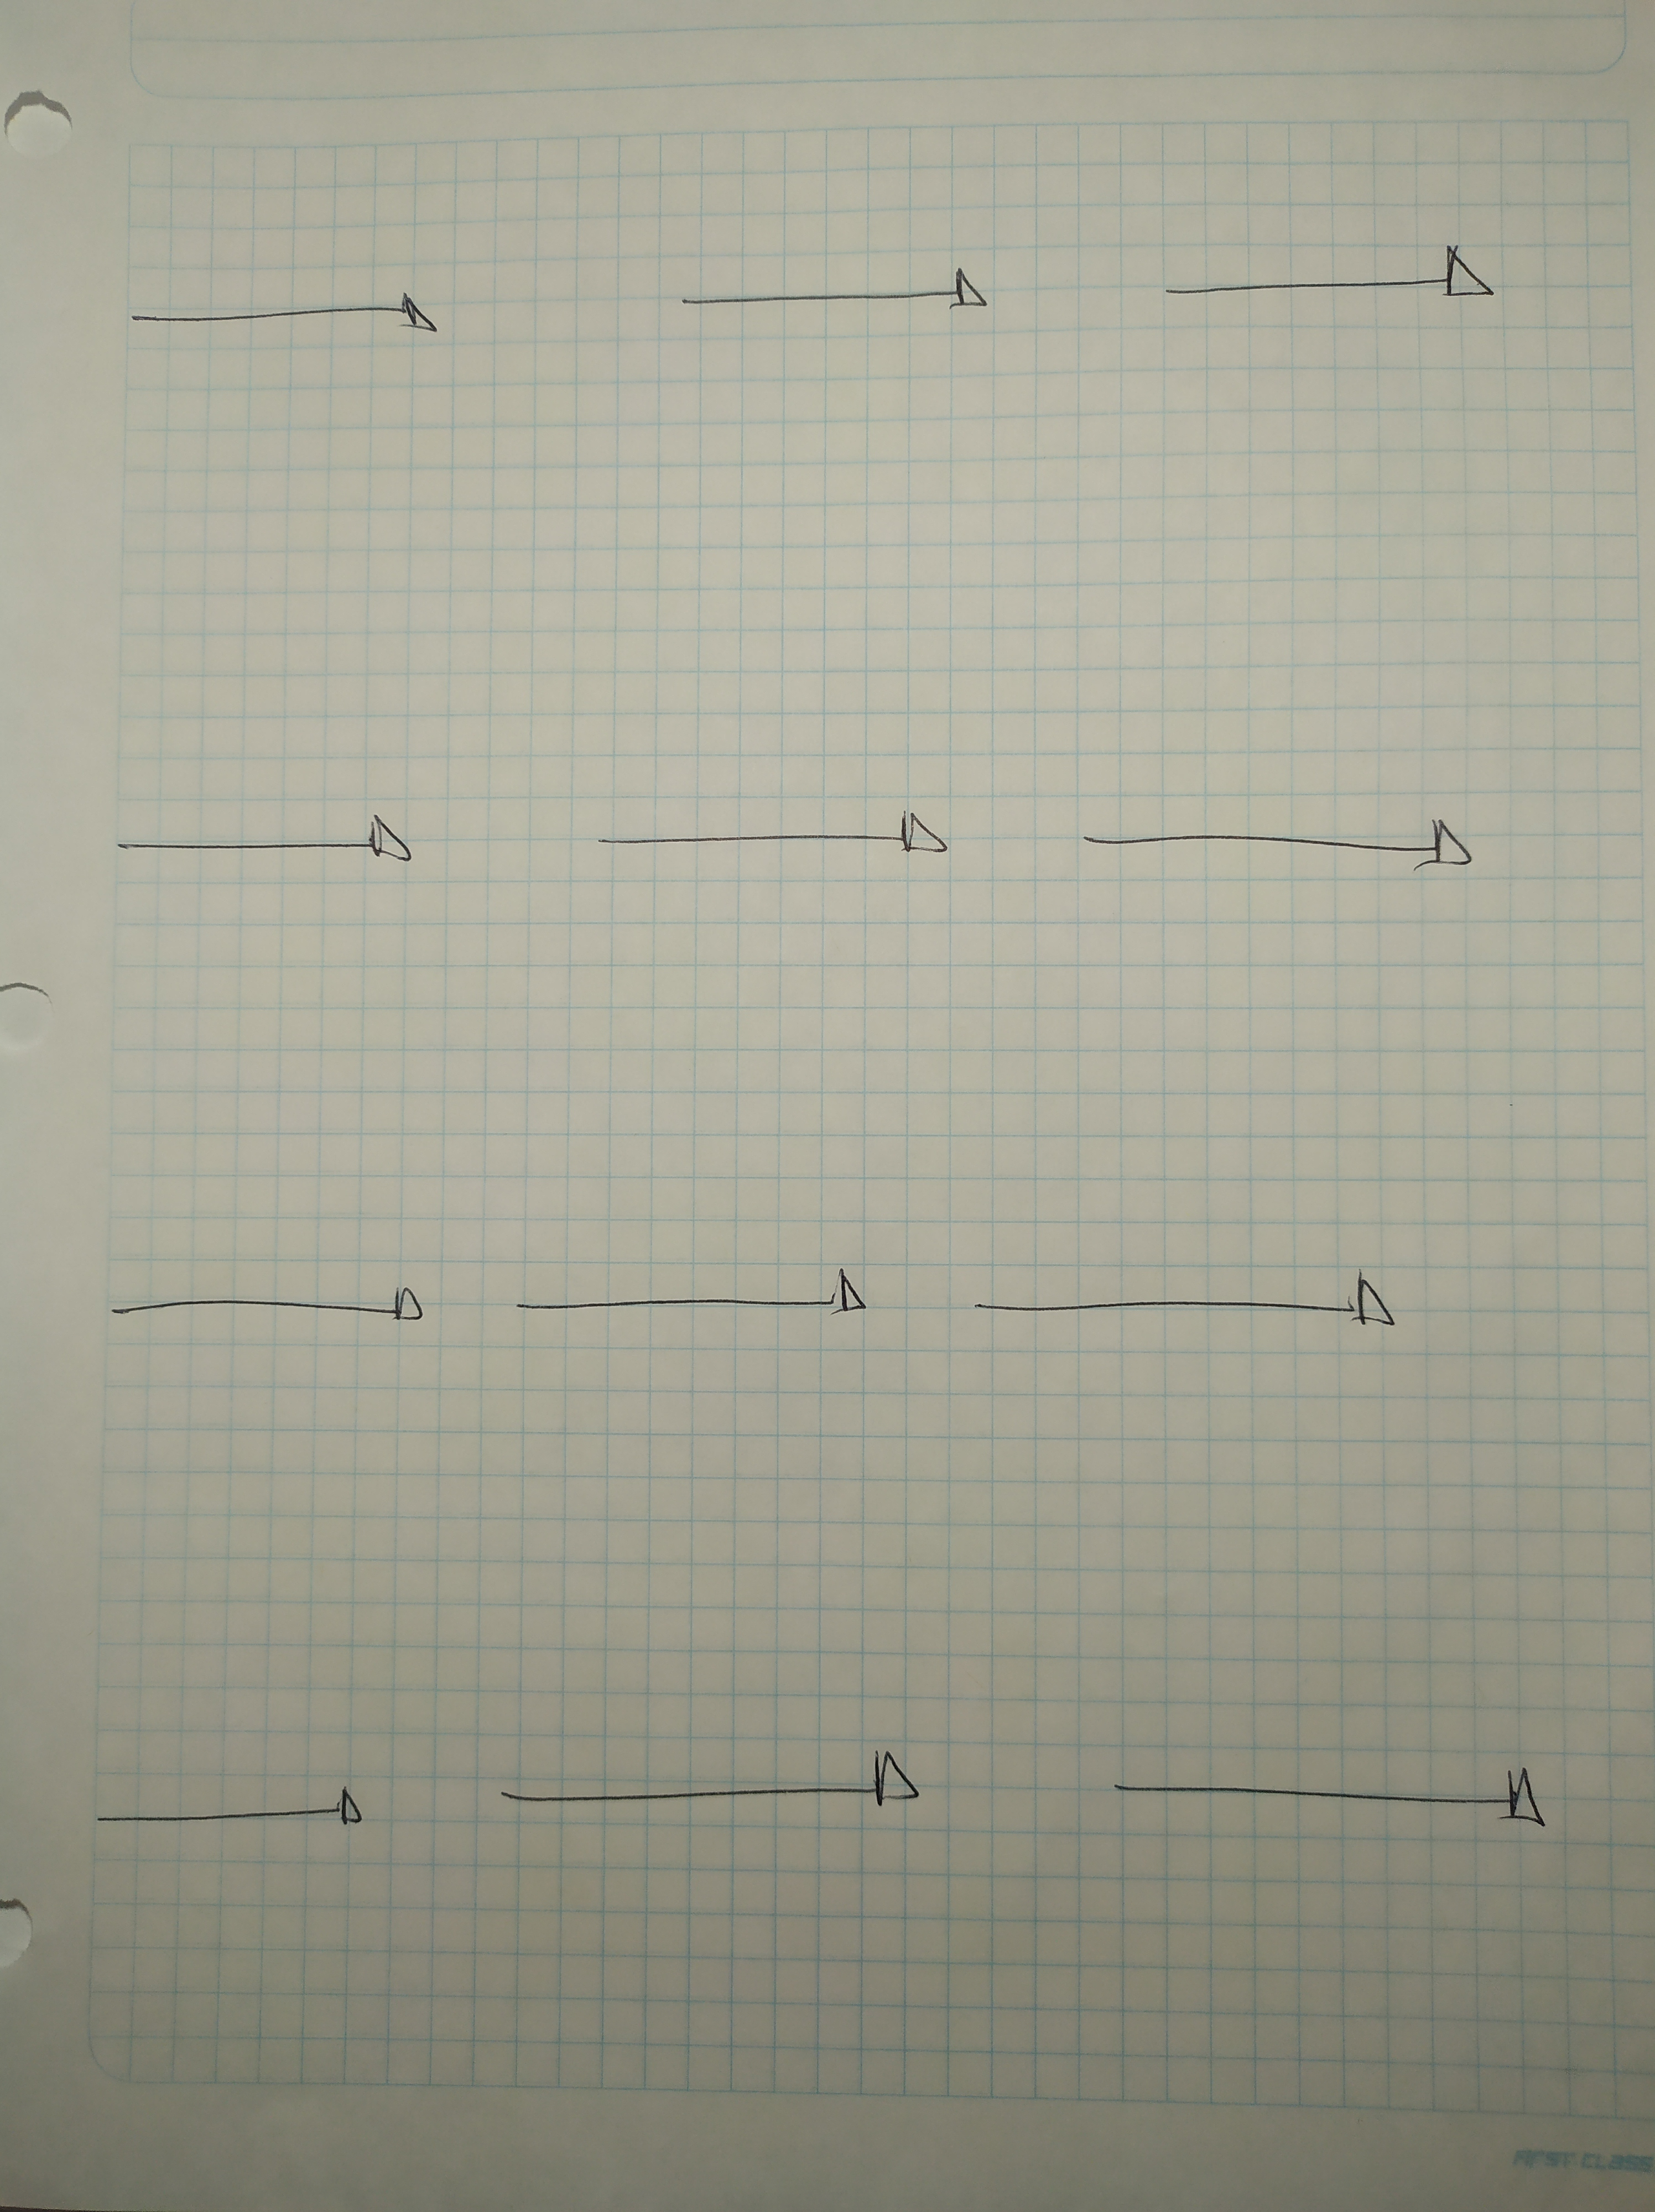arrow_line_right: (1059, 1724, 1577, 1875), (1050, 770, 1499, 891), (469, 1724, 925, 1838), (951, 1251, 1429, 1348), (90, 1260, 471, 1374), (563, 792, 968, 890), (494, 1251, 895, 1343), (1144, 228, 1526, 323), (104, 269, 449, 360), (73, 1760, 405, 1851), (83, 805, 435, 884), (657, 262, 1033, 332)
